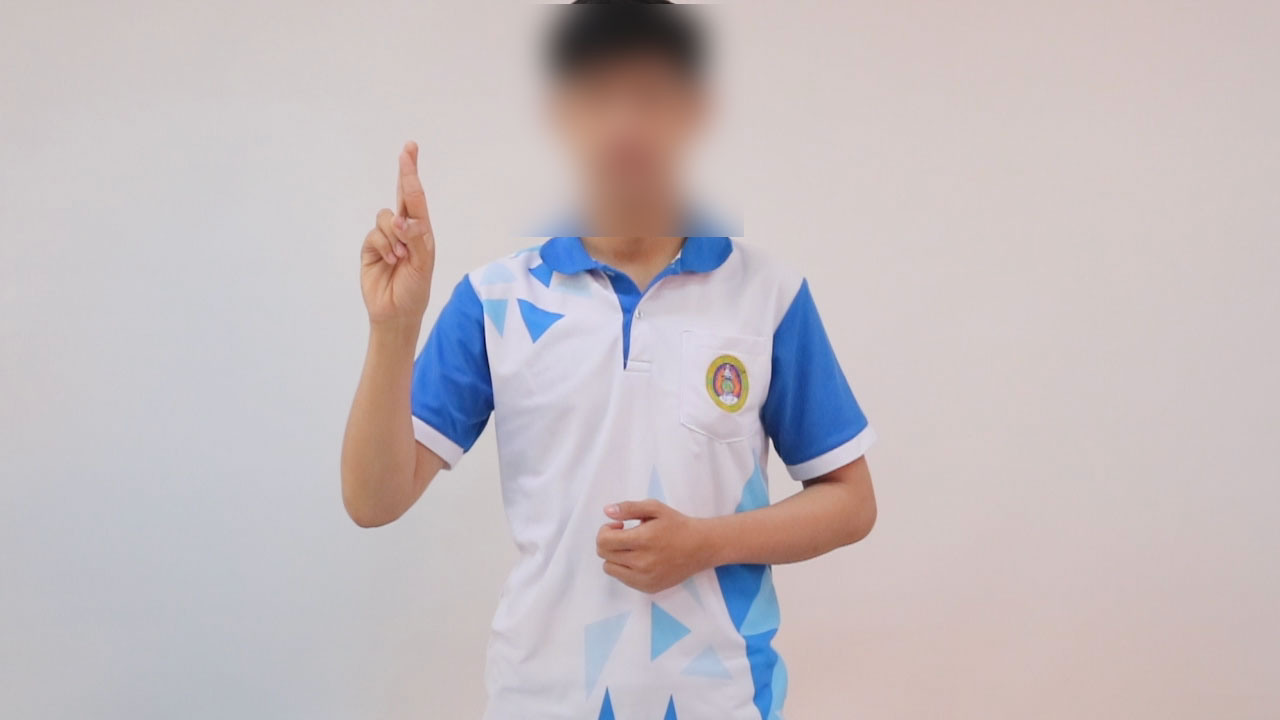rao: (332, 124, 457, 344)
